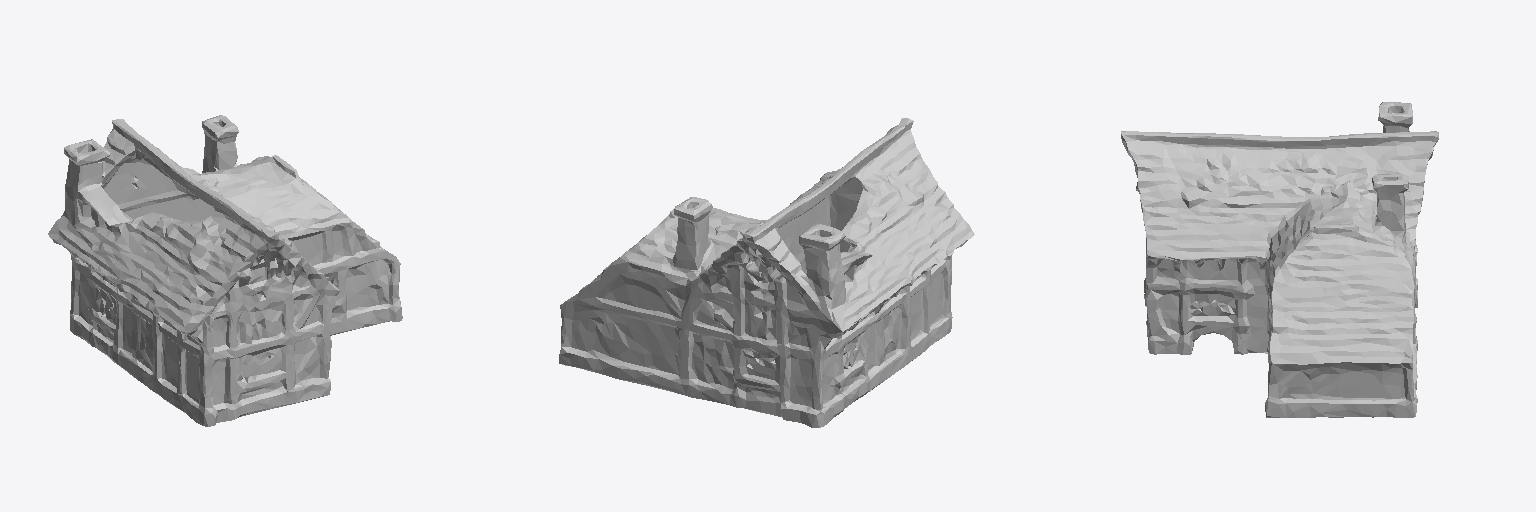
File: house4.obj
3 views of the same model, side by side, from view 1: azimuth 30°, elevation 25°; view 2: azimuth 150°, elevation 25°; view 3: azimuth 270°, elevation 25° (orthographic).
Parts seen in each view (by area): view 1: 村庄上的公会建_[number redacted]_texture; view 2: 村庄上的公会建_[number redacted]_texture; view 3: 村庄上的公会建_[number redacted]_texture.
Boxes of the visible parts, x1=… form: 村庄上的公会建_[number redacted]_texture: x1=48, y1=115, x2=402, y2=426; 村庄上的公会建_[number redacted]_texture: x1=559, y1=118, x2=974, y2=427; 村庄上的公会建_[number redacted]_texture: x1=1121, y1=102, x2=1438, y2=417.
Bounding box in the file's own units: 1.98 × 1.25 × 1.91.